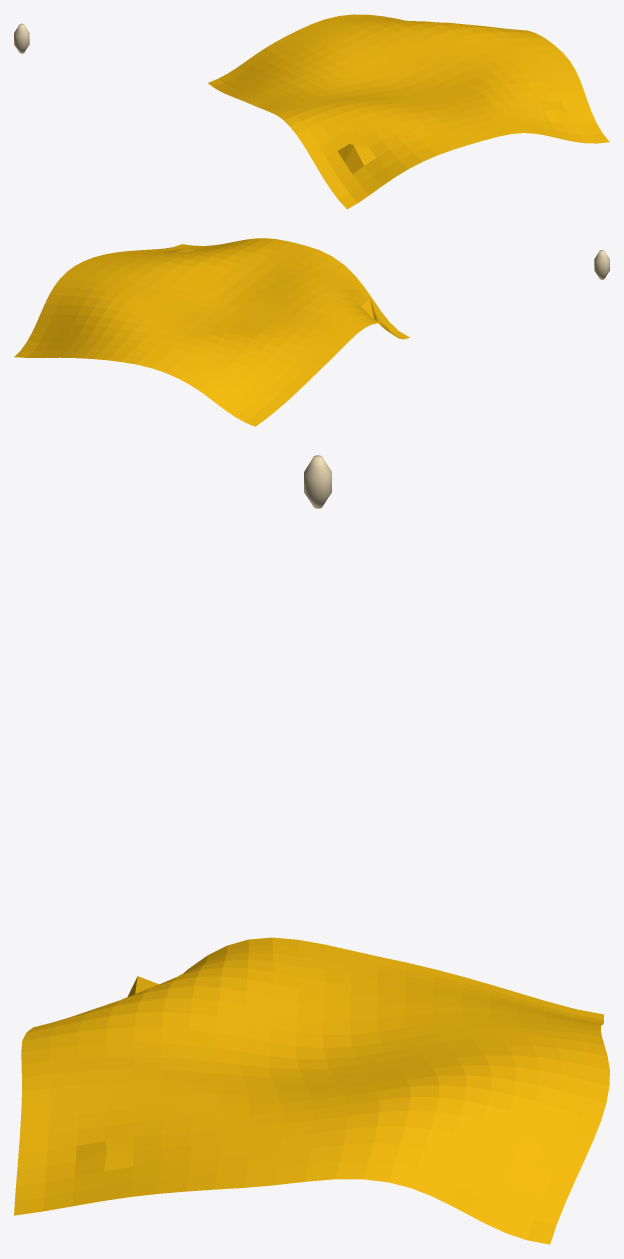
Rendered from Queso.glb.
3 views of the same model, one above another, from view 1: azimuth 30°, elevation 25°; view 2: azimuth 150°, elevation 25°; view 3: azimuth 270°, elevation 25° (orthographic). The views are drawn at different scales.
Parts seen in each view (by area): view 1: QUESO, SEMILLA; view 2: QUESO, SEMILLA; view 3: QUESO, SEMILLA.
Part boxes in pixels (bbox=[...]): QUESO: bbox=[208, 14, 609, 209]; SEMILLA: bbox=[14, 23, 29, 53]; QUESO: bbox=[14, 238, 409, 426]; SEMILLA: bbox=[594, 250, 609, 279]; QUESO: bbox=[14, 937, 609, 1244]; SEMILLA: bbox=[304, 455, 331, 508].
Bounding box in the file's own units: 11.78 × 4.17 × 6.34.
